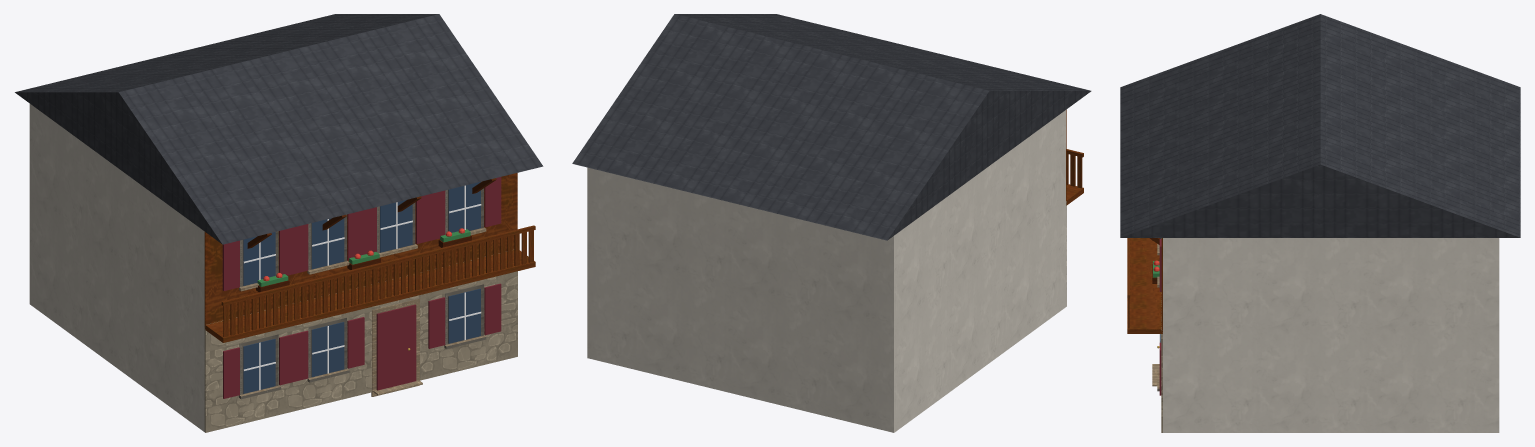
The model's file is chale_w10_2.gltf.
3 renders of one model, left to right at view 1: azimuth 30°, elevation 25°; view 2: azimuth 150°, elevation 25°; view 3: azimuth 270°, elevation 25°, orthographic. The views are drawn at different scales.
Visible parts, largest first — view 1: chale_w10_2; view 2: chale_w10_2; view 3: chale_w10_2.
Boxes of the visible parts, x1,y1,x2,y2 form: chale_w10_2: (15,14,543,432); chale_w10_2: (572,14,1091,432); chale_w10_2: (1120,14,1520,432).
Size of what is drawn, in the model's own units: 9.96 by 8.48 by 11.2.
Materials: 8 (5 with a texture image).
